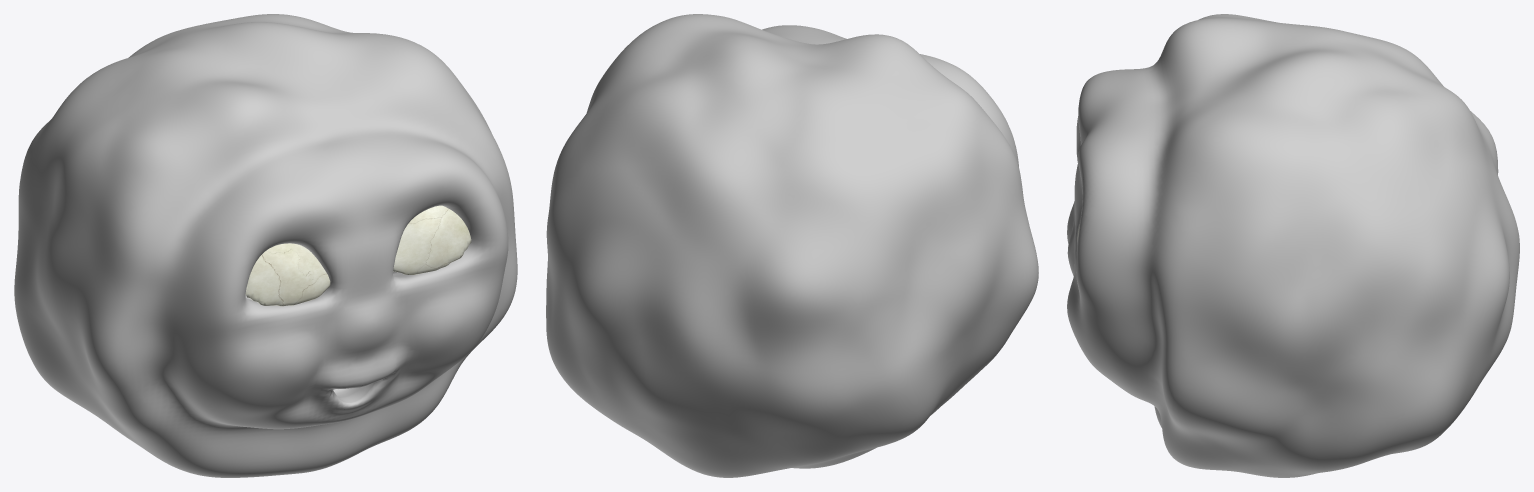
Rendered from SpiderBig.fbx.
3 renders of one model, left to right at view 1: azimuth 30°, elevation 25°; view 2: azimuth 150°, elevation 25°; view 3: azimuth 270°, elevation 25°, orthographic. The views are drawn at different scales.
Parts seen in each view (by area): view 1: Cube.001, Circle, Circle.001; view 2: Cube.001; view 3: Cube.001.
Boxes of the visible parts, bbox=[...] form: Cube.001: bbox=[14, 14, 517, 477]; Circle: bbox=[245, 243, 330, 306]; Circle.001: bbox=[393, 205, 471, 274]; Cube.001: bbox=[546, 14, 1038, 477]; Cube.001: bbox=[1067, 14, 1519, 477].
Bounding box in the file's own units: 201 × 182 × 188.
